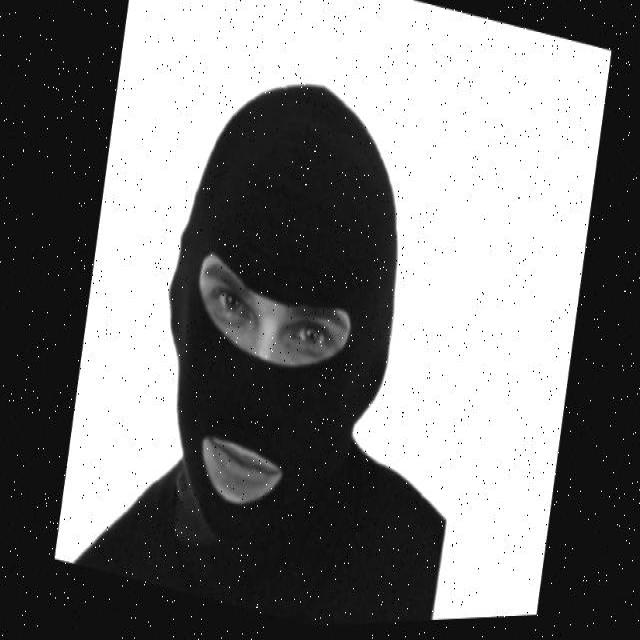6_pasamontana: (92, 82, 446, 589)
